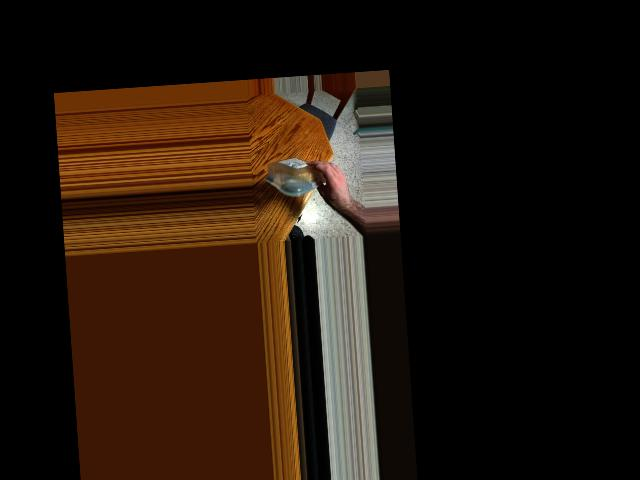cheese: (263, 153, 338, 195)
